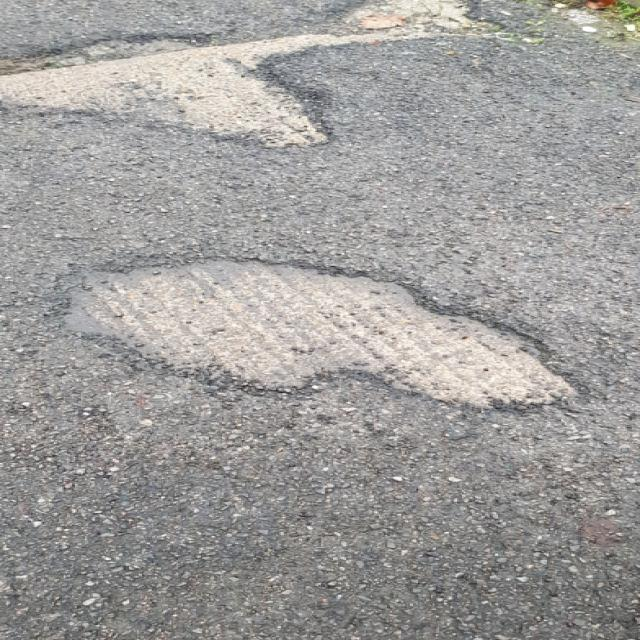Pothole: (40, 250, 587, 420), (1, 23, 339, 154), (337, 1, 515, 49)
